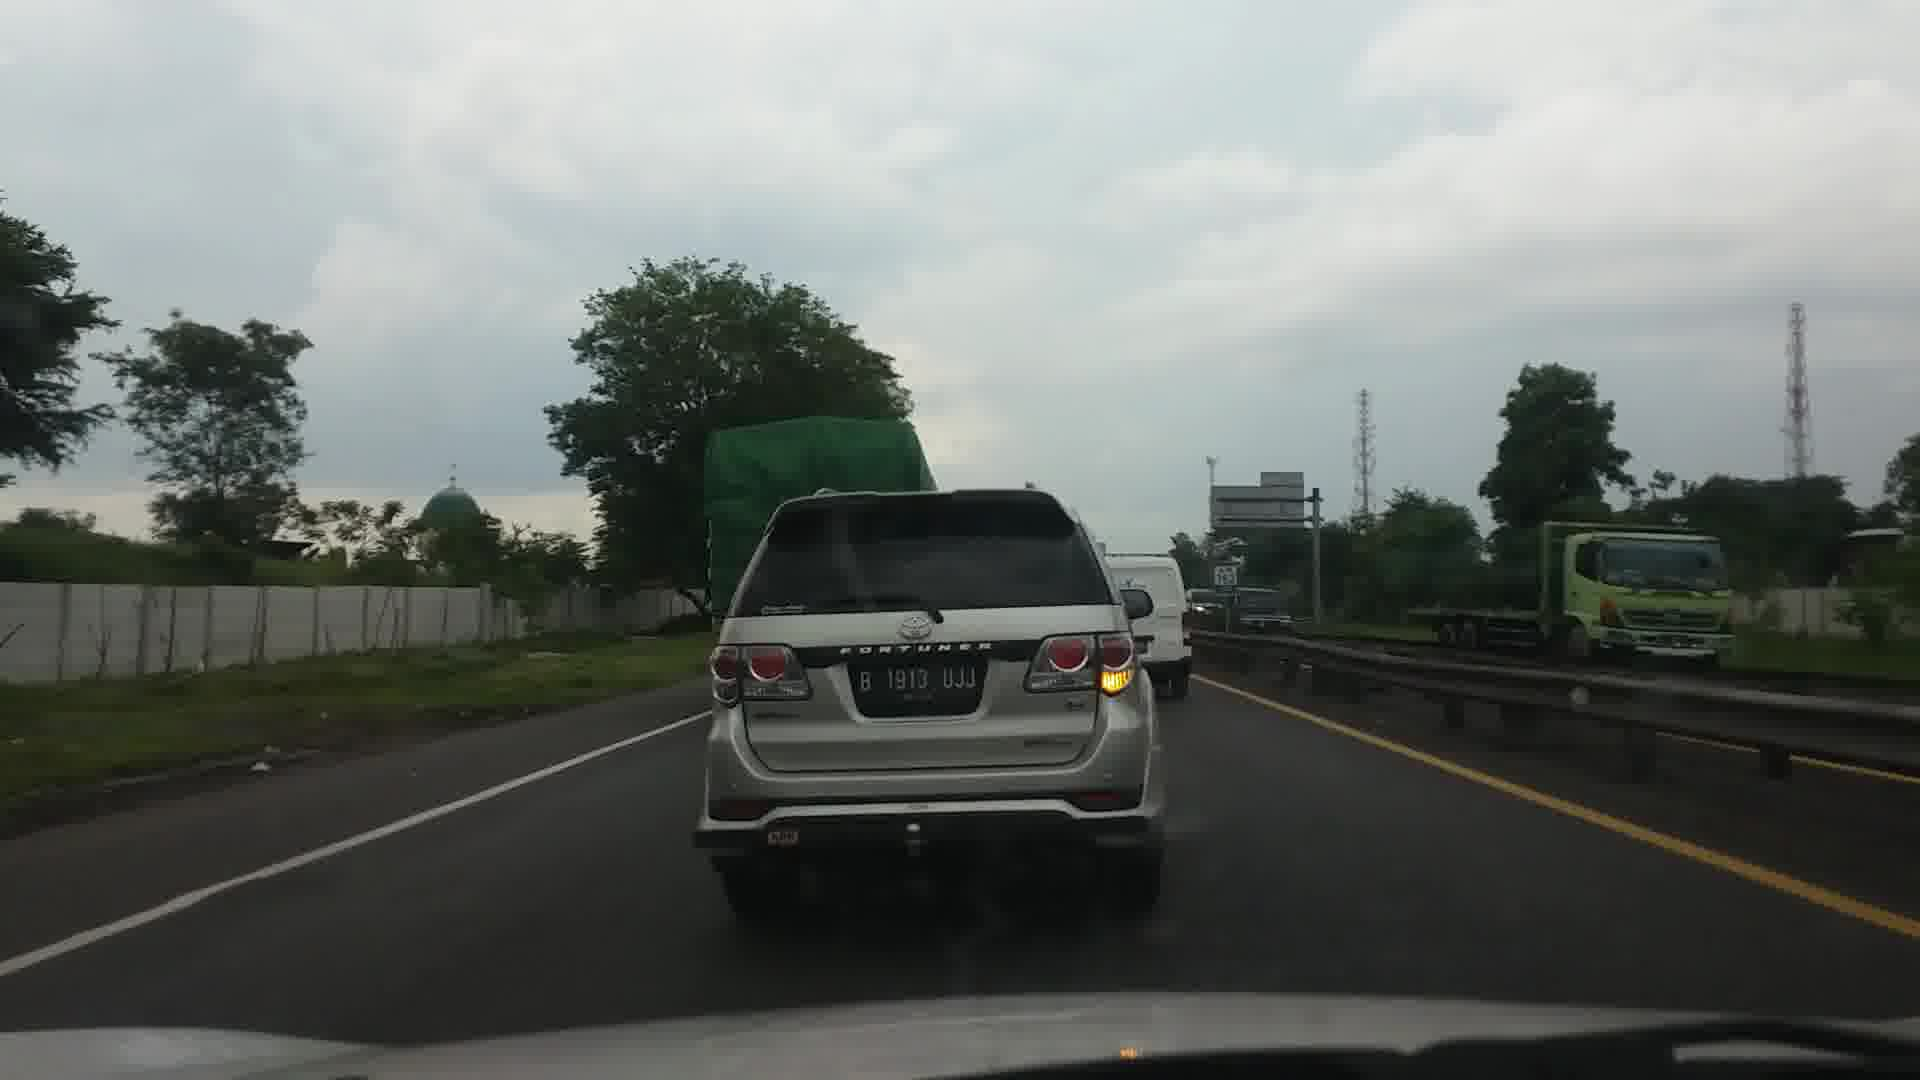plate_positive: (855, 663, 980, 704)
